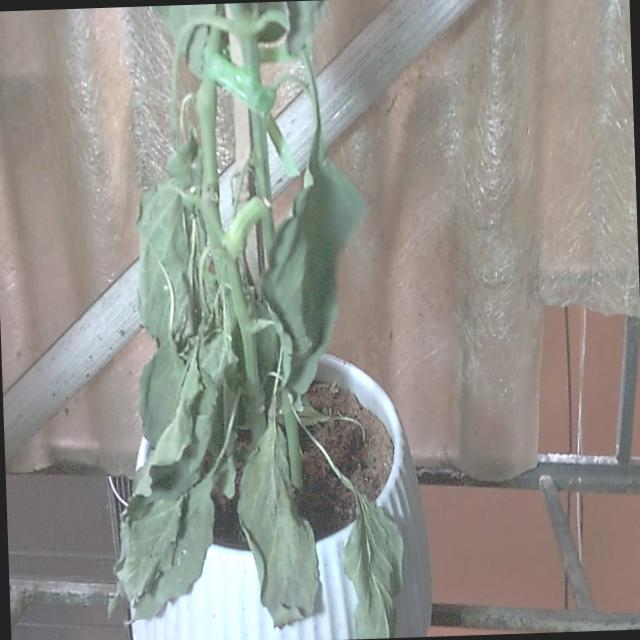Leaf: (264, 134, 362, 398), (236, 426, 319, 628), (124, 464, 220, 627), (342, 488, 405, 640)
